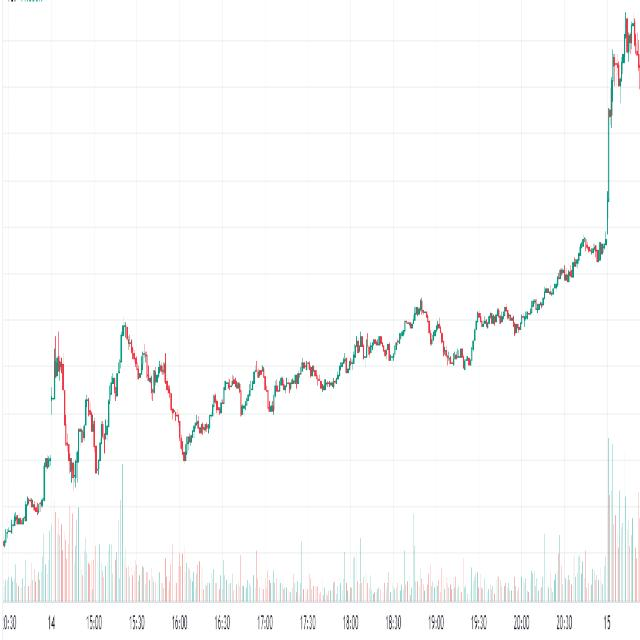Double-Bottom: (58, 322, 126, 494)
